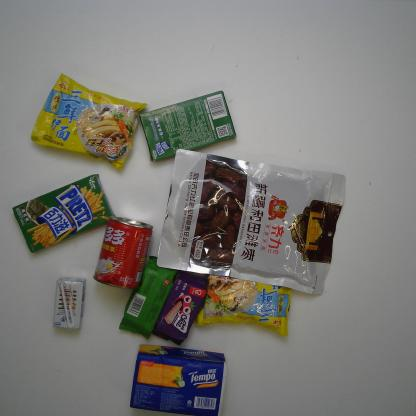Canned Food: (92, 210, 154, 289)
Dessert: (11, 172, 114, 254), (136, 90, 237, 162), (150, 263, 217, 346), (116, 255, 180, 337)
Dried Food: (157, 147, 352, 296)
Instant Noodles: (30, 72, 146, 172), (192, 253, 295, 336)
Milk: (51, 276, 86, 330)
Tissue: (128, 337, 228, 413)
